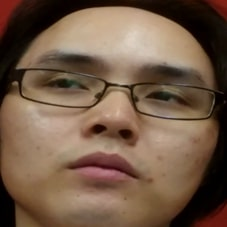drowsy: (27, 45, 208, 203)
